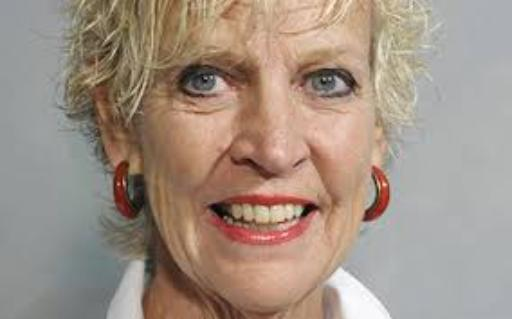left_eye: (297, 69, 361, 97)
left_lip_corner: (305, 199, 338, 219)
right_eye: (180, 71, 242, 97)
right_lip_corner: (194, 198, 230, 215)
